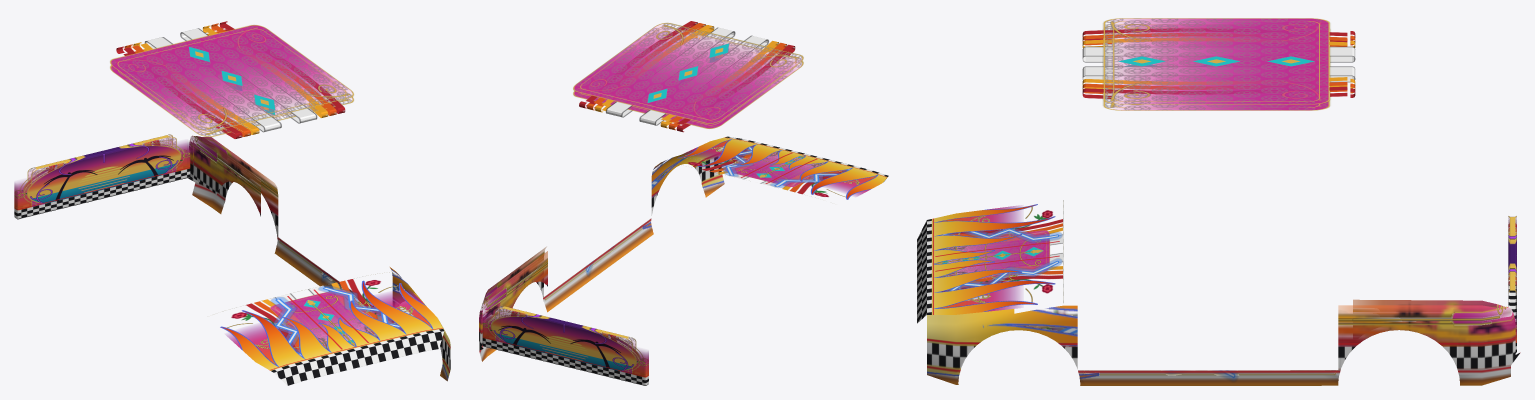
Rendered from GeneralsCartVinyls.glb.
The picture shows the model from 3 angles, left to right: view 1: azimuth 30°, elevation 25°; view 2: azimuth 150°, elevation 25°; view 3: azimuth 270°, elevation 25°; orthographic projection. The views are drawn at different scales.
Visible parts, largest first — view 1: GeneralsCartLivery_patterns_roof, GeneralsCartLivery_purple_lace_roof, GeneralsCartLivery_flames_hood, GeneralsCartLivery_mural_trunk, GeneralsCartLivery_checker_hood, GeneralsCartLivery_retro_waves_roof, GeneralsCartLivery_patterns_hood, GeneralsCartLivery_stripes_roof, GeneralsCartLivery_checker_trunk, GeneralsCartLivery_tropical_side, GeneralsCartLivery_checker_side, GeneralsCartLivery_lightning_hood (+16 smaller); view 2: GeneralsCartLivery_patterns_roof, GeneralsCartLivery_purple_lace_roof, GeneralsCartLivery_mural_trunk, GeneralsCartLivery_retro_waves_roof, GeneralsCartLivery_flames_hood, GeneralsCartLivery_stripes_roof, GeneralsCartLivery_checker_trunk, GeneralsCartLivery_stripes_side, GeneralsCartLivery_sunset_fade_side, GeneralsCartLivery_patterns_hood, GeneralsCartLivery_tropical_side, GeneralsCartLivery_flames_side (+12 smaller); view 3: GeneralsCartLivery_patterns_roof, GeneralsCartLivery_purple_lace_roof, GeneralsCartLivery_flames_hood, GeneralsCartLivery_flames_side, GeneralsCartLivery_checker_side, GeneralsCartLivery_retro_waves_roof, GeneralsCartLivery_tropical_side, GeneralsCartLivery_stripes_side, GeneralsCartLivery_stripes_roof, GeneralsCartLivery_sunset_fade_side, GeneralsCartLivery_retro_waves_side, GeneralsCartLivery_patterns_hood (+12 smaller).
Part boxes in pixels (x1,y1,x2,y2): GeneralsCartLivery_patterns_roof: (110,25,353,136); GeneralsCartLivery_purple_lace_roof: (115,30,351,136); GeneralsCartLivery_flames_hood: (220,281,442,370); GeneralsCartLivery_mural_trunk: (14,141,189,204); GeneralsCartLivery_checker_hood: (269,289,444,385); GeneralsCartLivery_retro_waves_roof: (116,21,345,138); GeneralsCartLivery_patterns_hood: (270,290,376,347); GeneralsCartLivery_stripes_roof: (145,28,317,132); GeneralsCartLivery_checker_trunk: (14,167,190,219); GeneralsCartLivery_tropical_side: (189,136,277,206); GeneralsCartLivery_checker_side: (188,159,450,373); GeneralsCartLivery_lightning_hood: (271,285,401,355); GeneralsCartLivery_patterns_roof: (573,23,803,128); GeneralsCartLivery_purple_lace_roof: (581,23,802,123); GeneralsCartLivery_mural_trunk: (482,312,648,372); GeneralsCartLivery_retro_waves_roof: (579,21,795,132); GeneralsCartLivery_flames_hood: (677,137,887,199); GeneralsCartLivery_stripes_roof: (606,27,768,125); GeneralsCartLivery_checker_trunk: (482,337,648,385); GeneralsCartLivery_stripes_side: (479,182,724,361); GeneralsCartLivery_sunset_fade_side: (479,183,724,361); GeneralsCartLivery_patterns_hood: (724,151,824,186); GeneralsCartLivery_tropical_side: (479,247,547,330); GeneralsCartLivery_flames_side: (486,149,723,307); GeneralsCartLivery_patterns_roof: (1103,18,1329,110); GeneralsCartLivery_purple_lace_roof: (1105,18,1315,110); GeneralsCartLivery_flames_hood: (931,204,1055,314); GeneralsCartLivery_flames_side: (927,305,1499,378); GeneralsCartLivery_checker_side: (927,337,1519,373); GeneralsCartLivery_retro_waves_roof: (1082,28,1355,98); GeneralsCartLivery_tropical_side: (1338,299,1515,342); GeneralsCartLivery_stripes_side: (927,365,1510,382); GeneralsCartLivery_stripes_roof: (1082,46,1355,82); GeneralsCartLivery_sunset_fade_side: (927,315,1514,385); GeneralsCartLivery_retro_waves_side: (1024,309,1520,352); GeneralsCartLivery_patterns_hood: (937,230,1049,278).
Size of the model in its own units: 5.21 by 6.14 by 12.4.
Materials: 50 (50 with a texture image).
